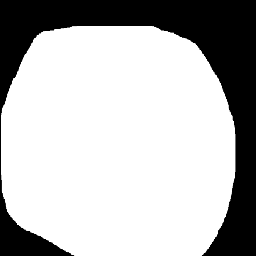mass: (17, 23, 239, 249)
